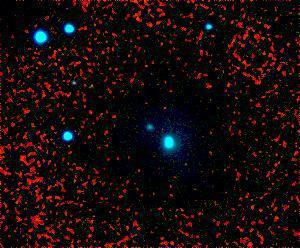star: (75, 70, 105, 100)
